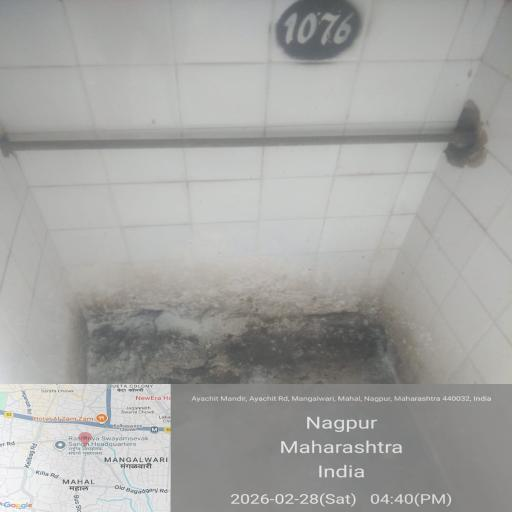clean_floor: (27, 32, 443, 268)
partial_dirty_floor: (71, 237, 445, 512)
